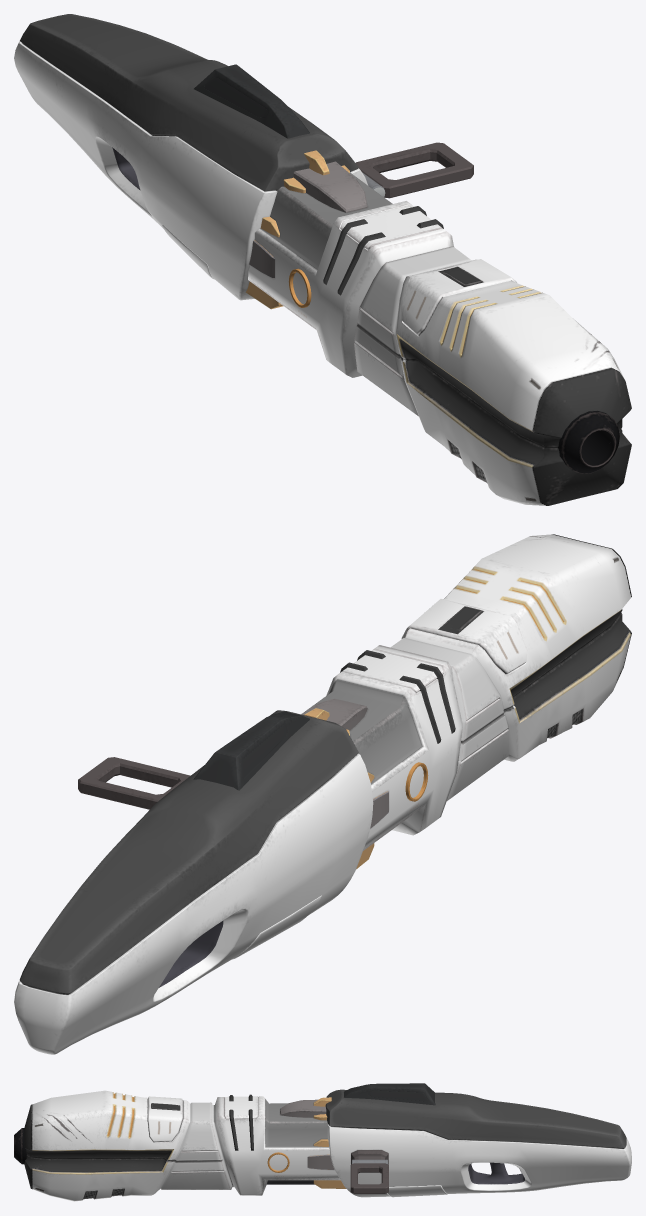
File: p_gun_20230823.fbx
3 renders of one model, top to bottom at view 1: azimuth 30°, elevation 25°; view 2: azimuth 150°, elevation 25°; view 3: azimuth 270°, elevation 25°, orthographic. The views are drawn at different scales.
Parts seen in each view (by area): view 1: p_gun_L; view 2: p_gun_L; view 3: p_gun_L.
Part boxes in pixels (<box>): p_gun_L: <box>14,14,631,505</box>; p_gun_L: <box>14,534,631,1054</box>; p_gun_L: <box>14,1083,631,1201</box>.
Bounding box in the file's own units: 40.91 × 29.99 × 160.
1 material, 1 textured.
